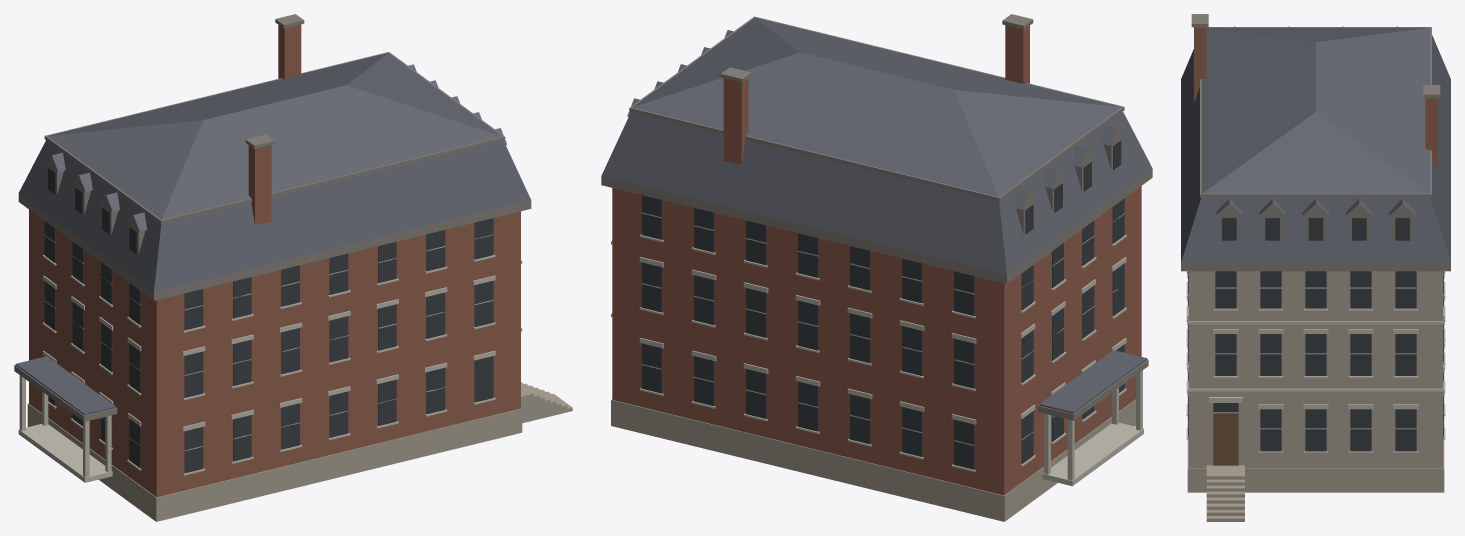
The model's file is elbridge_keith_house_1900_prairie__draft_1904.glb.
3 views of the same model, side by side, from view 1: azimuth 30°, elevation 25°; view 2: azimuth 150°, elevation 25°; view 3: azimuth 270°, elevation 25° (orthographic). The views are drawn at different scales.
Visible parts, largest first — view 1: elbridge_keith_house_1900_prairie__draft_1904; view 2: elbridge_keith_house_1900_prairie__draft_1904; view 3: elbridge_keith_house_1900_prairie__draft_1904.
Boxes of the visible parts, <box> form: elbridge_keith_house_1900_prairie__draft_1904: <box>14,14,572,521</box>; elbridge_keith_house_1900_prairie__draft_1904: <box>601,14,1152,521</box>; elbridge_keith_house_1900_prairie__draft_1904: <box>1181,14,1450,521</box>.
Size of the model in its own units: 25.2 by 18.15 by 12.7.
